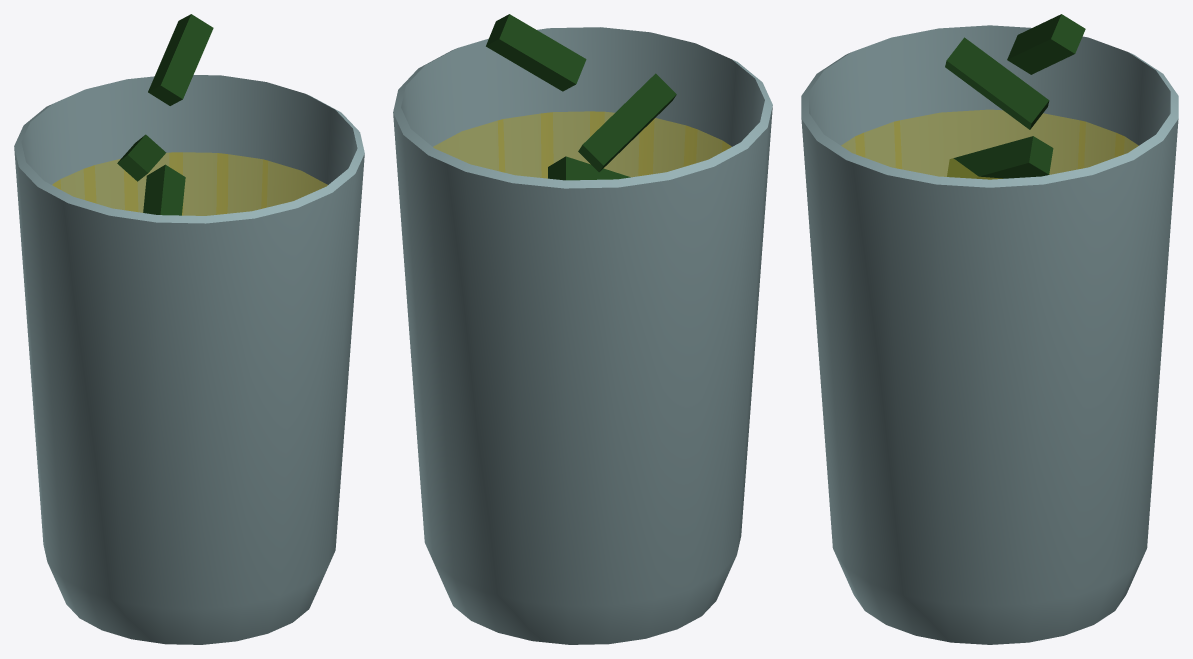
The model's file is hz-glass-cup.glb.
3 views of the same model, side by side, from view 1: azimuth 30°, elevation 25°; view 2: azimuth 150°, elevation 25°; view 3: azimuth 270°, elevation 25° (orthographic). The views are drawn at different scales.
Parts seen in each view (by area): view 1: glass__glass, tea__glass_tint, leaves__plant; view 2: glass__glass, tea__glass_tint, leaves__plant; view 3: glass__glass, tea__glass_tint, leaves__plant.
Boxes of the visible parts, x1,y1,x2,y2 form: glass__glass: (14,75,364,644); tea__glass_tint: (52,152,327,215); leaves__plant: (117,14,213,215); glass__glass: (393,27,772,644); tea__glass_tint: (433,111,731,178); leaves__plant: (486,14,676,180); glass__glass: (801,25,1178,644); tea__glass_tint: (841,109,1138,179); leaves__plant: (945,14,1085,179).
Bounding box in the file's own units: 0.072 × 0.1233 × 0.0713.
